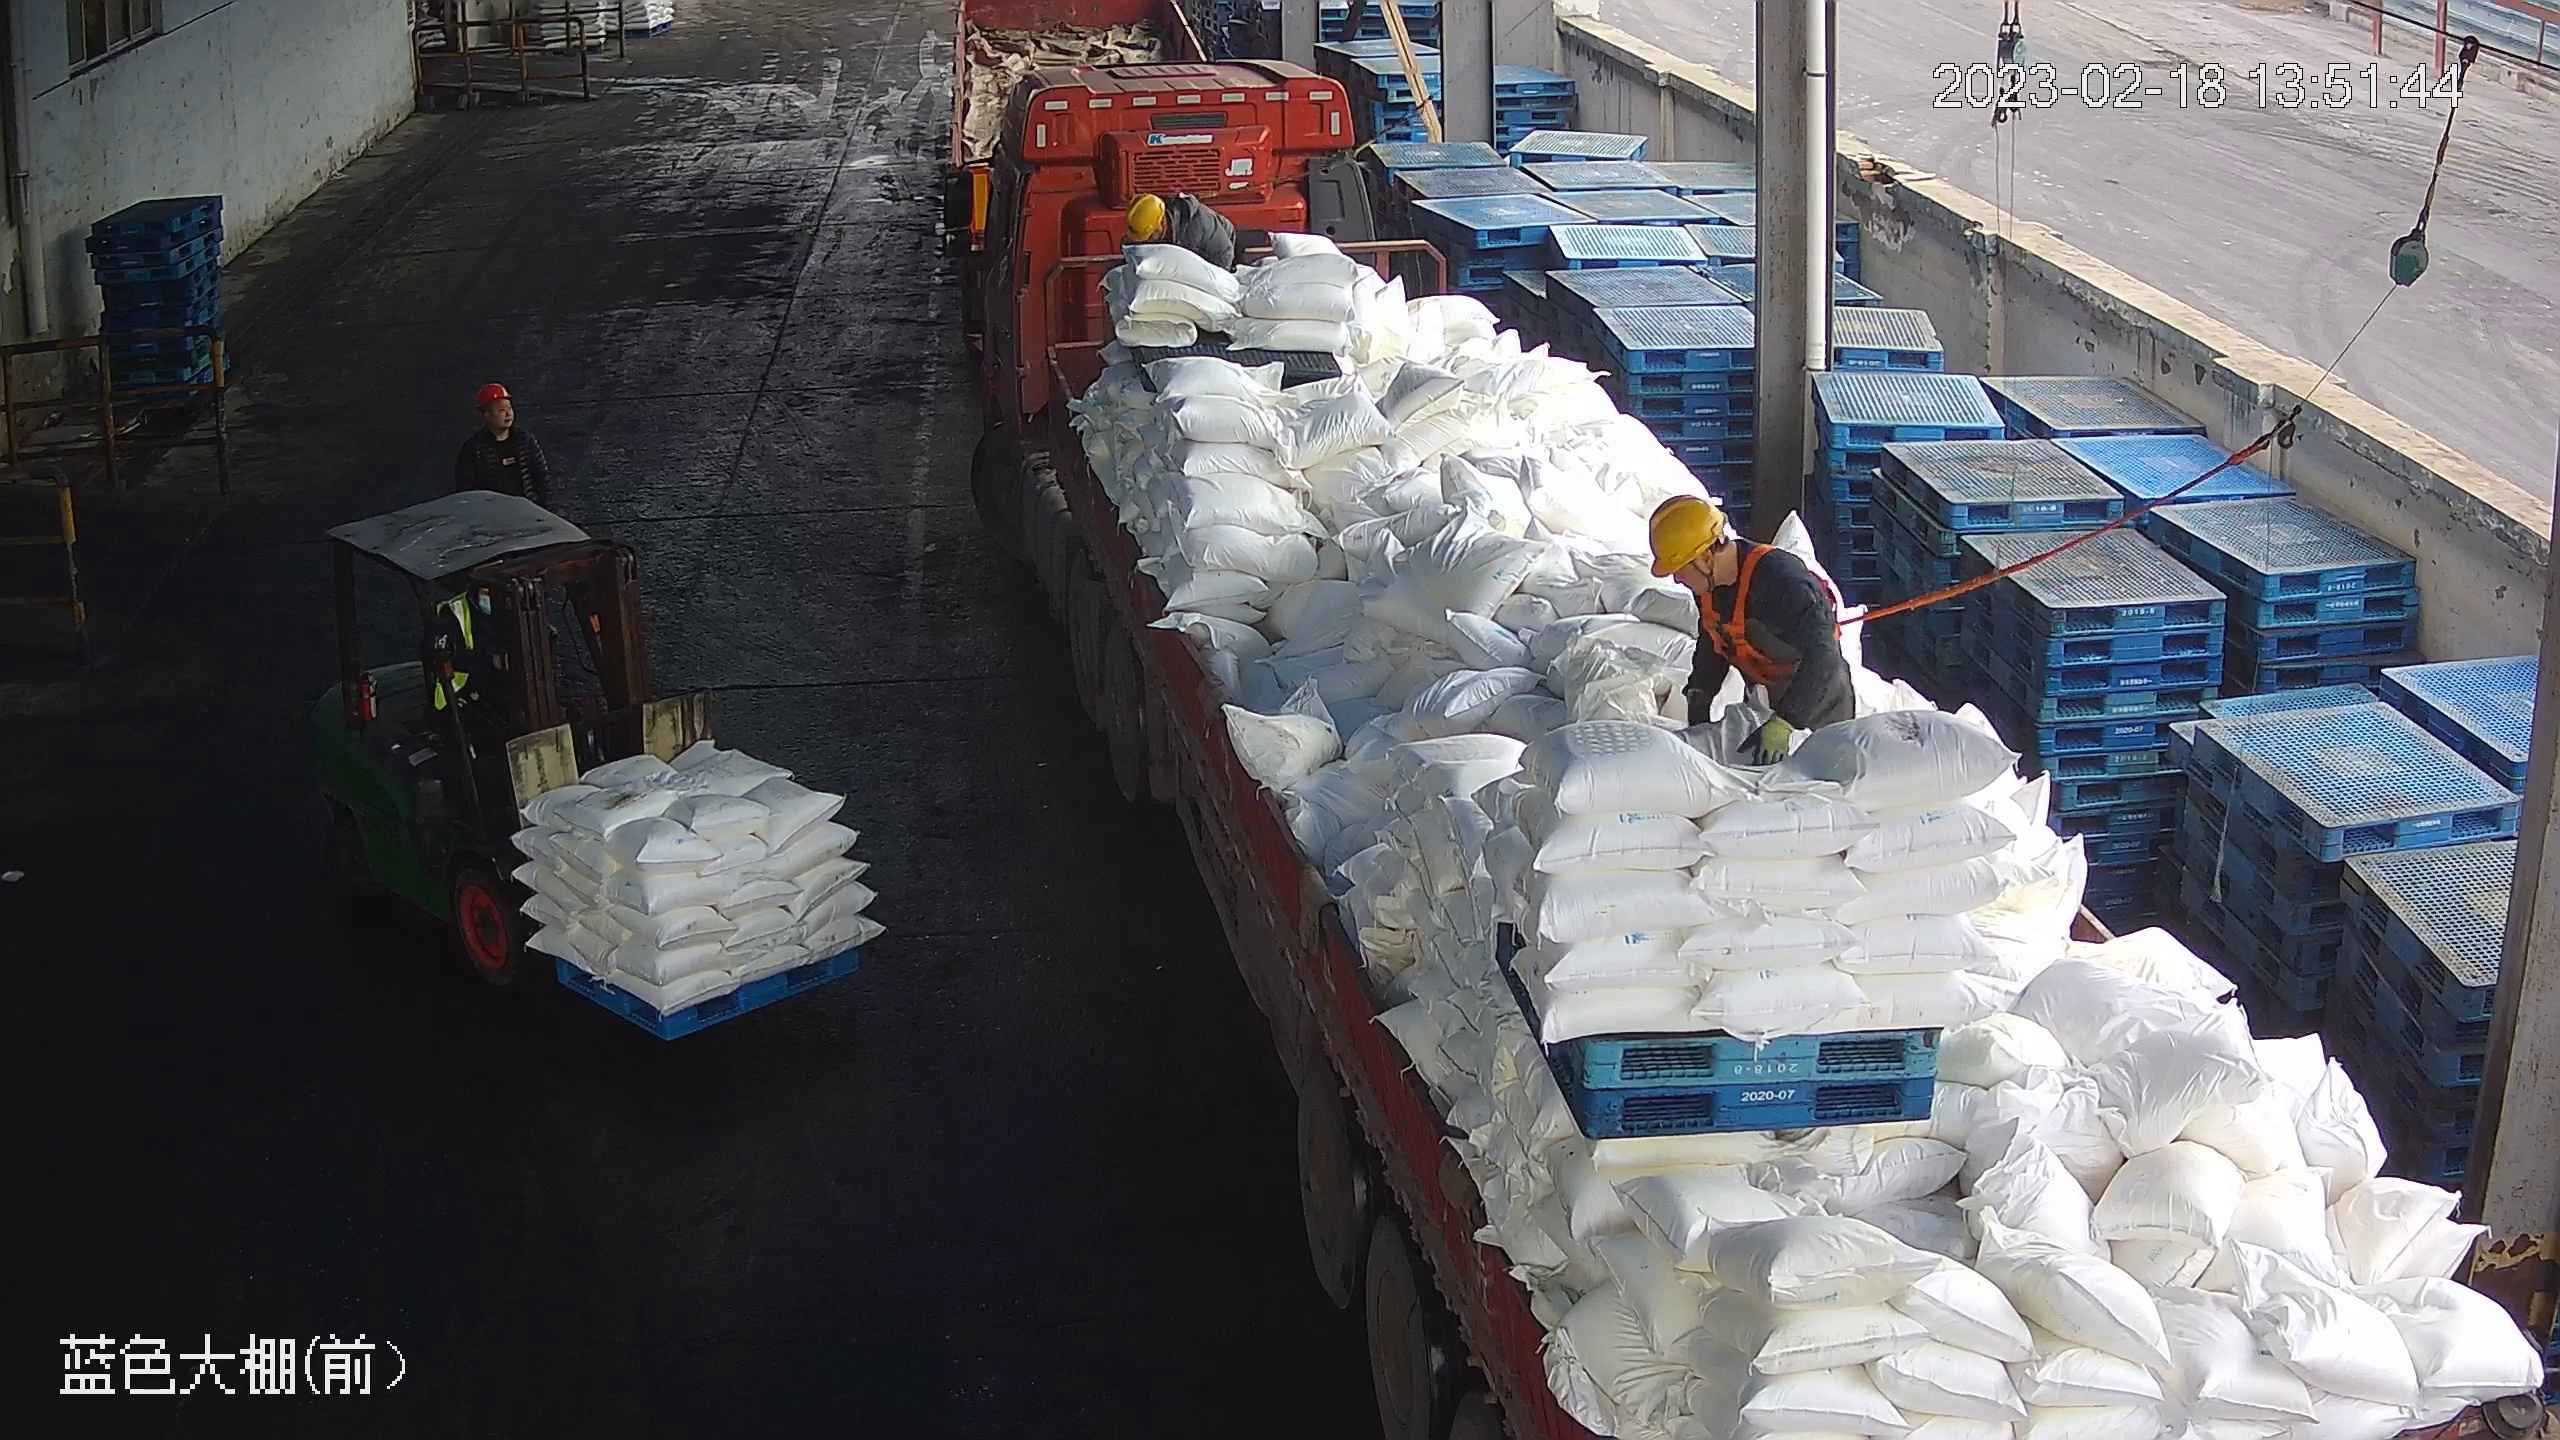belt: (1698, 539, 1869, 693)
head: (1651, 491, 1810, 650), (454, 381, 552, 486), (1123, 194, 1240, 262)
helmet: (1649, 491, 1729, 579), (1123, 191, 1167, 245), (474, 383, 506, 408)
people: (1649, 491, 1859, 772)
truck: (934, 52, 2560, 1440)
